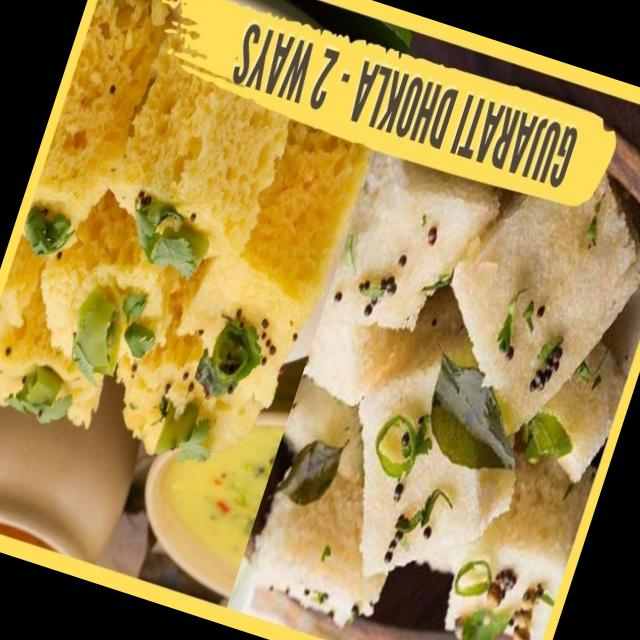dhokla: (221, 141, 640, 640), (0, 0, 375, 500)
